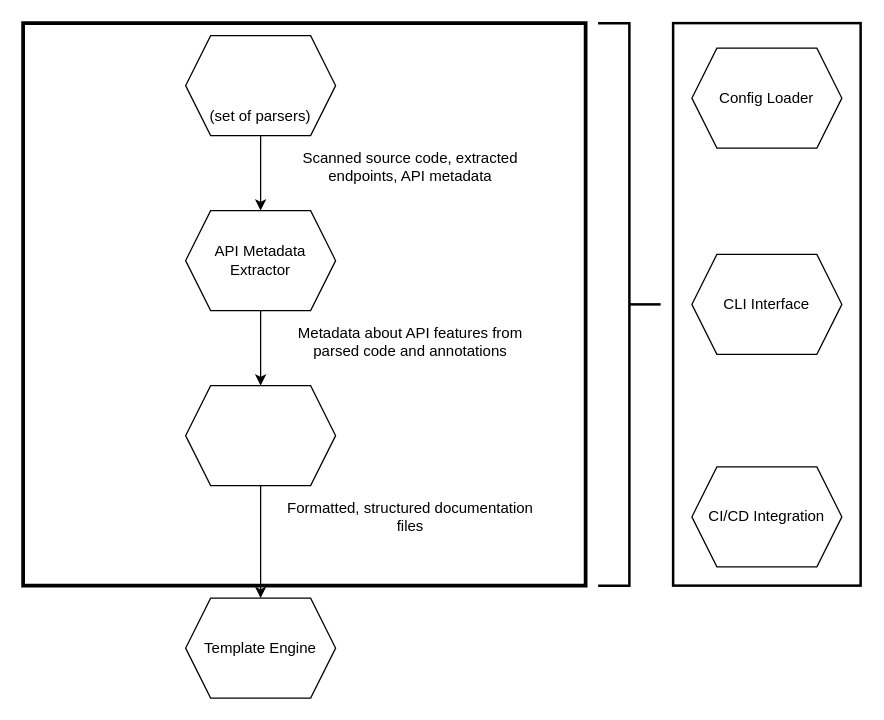
Some shapes in this 884 by 720 pixel diagram are drawn without their labels. The shapes that lost their labels are listed below. From the top down, each one's box as (x1, y1, x2, y2) in pixels, then its label:
(184, 34, 336, 136): Code Parser
(184, 384, 336, 486): Documentation Generator
